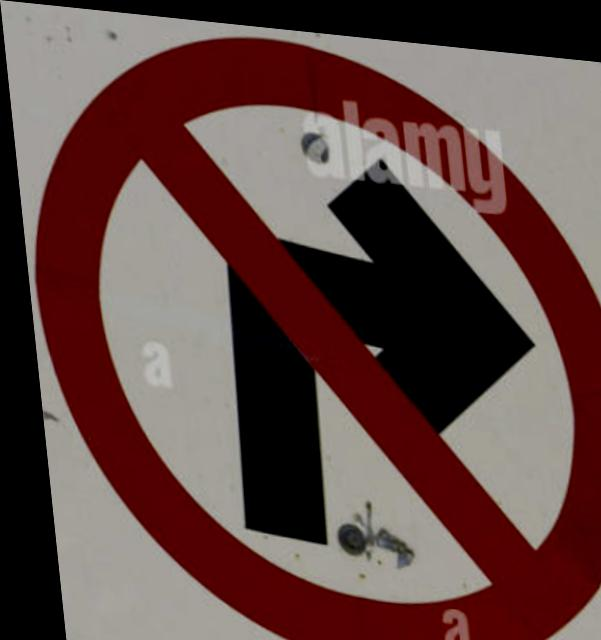not_turn_right: (12, 8, 601, 640)
